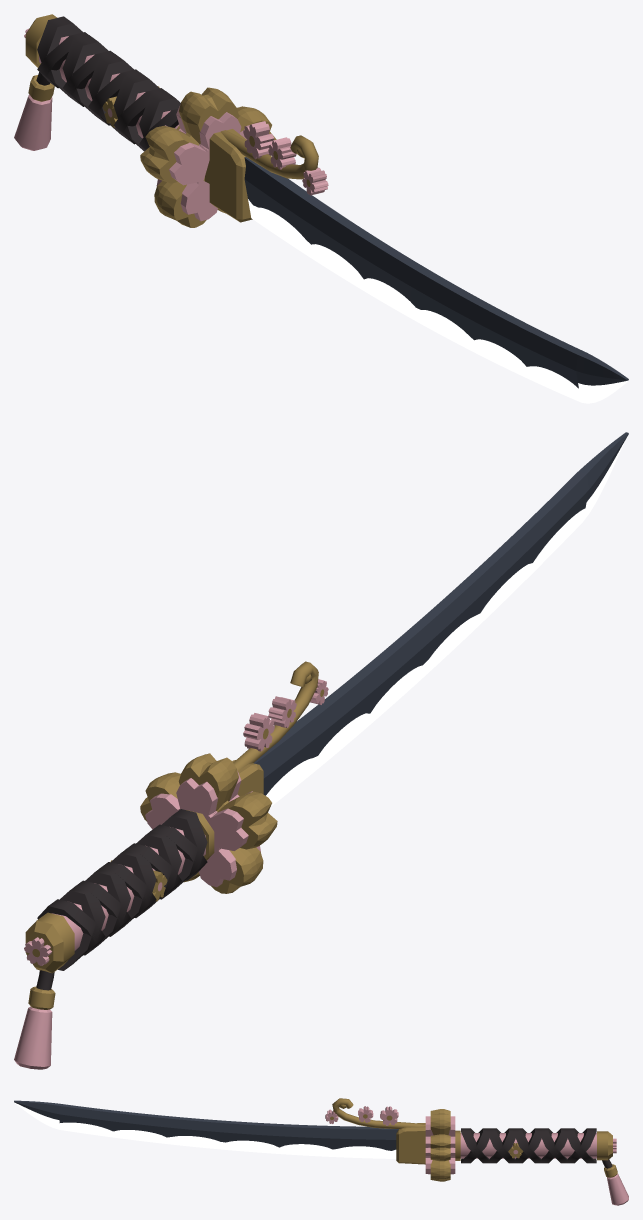
The model's file is w_katana@katana_sakura.glb.
3 views of the same model, one above another, from view 1: azimuth 30°, elevation 25°; view 2: azimuth 150°, elevation 25°; view 3: azimuth 270°, elevation 25° (orthographic). The views are drawn at different scales.
Parts seen in each view (by area): view 1: kat_blade_wzB__steel__p3b4250, kat_tsuka_wzN__black__p2f2a2c, kat_guard_wzN__gold__p9a7f48, kat_blade_wzN__glow__nffc9d8, kat_guard_wzN__pink__pcf9aa5, kat_blade_wzN__pink__pcf9aa5, kat_blade_wzN__gold__p9a7f48, kat_trims_wzN__pink__pcf9aa5, kat_trims_wzN__gold__p9a7f48; view 2: kat_blade_wzB__steel__p3b4250, kat_tsuka_wzN__black__p2f2a2c, kat_guard_wzN__gold__p9a7f48, kat_blade_wzN__glow__nffc9d8, kat_guard_wzN__pink__pcf9aa5, kat_trims_wzN__gold__p9a7f48, kat_trims_wzN__pink__pcf9aa5, kat_blade_wzN__pink__pcf9aa5, kat_blade_wzN__gold__p9a7f48; view 3: kat_blade_wzB__steel__p3b4250, kat_blade_wzN__glow__nffc9d8, kat_tsuka_wzN__black__p2f2a2c, kat_guard_wzN__gold__p9a7f48, kat_tsuka_wzA__pink__pcf9aa5, kat_blade_wzN__gold__p9a7f48, kat_trims_wzN__gold__p9a7f48, kat_guard_wzN__pink__pcf9aa5, kat_blade_wzN__pink__pcf9aa5, kat_trims_wzN__pink__pcf9aa5.
Boxes of the visible parts, <box> form: kat_blade_wzB__steel__p3b4250: <box>244,157,628,388</box>; kat_tsuka_wzN__black__p2f2a2c: <box>37,16,180,151</box>; kat_guard_wzN__gold__p9a7f48: <box>140,87,276,227</box>; kat_blade_wzN__glow__nffc9d8: <box>248,199,627,403</box>; kat_guard_wzN__pink__pcf9aa5: <box>156,105,247,221</box>; kat_blade_wzN__pink__pcf9aa5: <box>243,121,328,195</box>; kat_blade_wzN__gold__p9a7f48: <box>220,130,318,186</box>; kat_trims_wzN__pink__pcf9aa5: <box>14,28,52,150</box>; kat_trims_wzN__gold__p9a7f48: <box>25,14,179,129</box>; kat_blade_wzB__steel__p3b4250: <box>253,432,628,795</box>; kat_tsuka_wzN__black__p2f2a2c: <box>37,809,207,970</box>; kat_guard_wzN__gold__p9a7f48: <box>140,753,277,893</box>; kat_blade_wzN__glow__nffc9d8: <box>266,438,626,806</box>; kat_guard_wzN__pink__pcf9aa5: <box>145,771,260,887</box>; kat_trims_wzN__gold__p9a7f48: <box>25,810,214,1009</box>; kat_trims_wzN__pink__pcf9aa5: <box>14,937,52,1069</box>; kat_blade_wzN__pink__pcf9aa5: <box>243,679,328,751</box>; kat_blade_wzN__gold__p9a7f48: <box>233,661,324,770</box>; kat_blade_wzB__steel__p3b4250: <box>14,1100,398,1150</box>; kat_blade_wzN__glow__nffc9d8: <box>14,1102,396,1158</box>; kat_tsuka_wzN__black__p2f2a2c: <box>461,1128,596,1163</box>; kat_guard_wzN__gold__p9a7f48: <box>396,1109,450,1181</box>; kat_tsuka_wzA__pink__pcf9aa5: <box>460,1133,596,1158</box>; kat_blade_wzN__gold__p9a7f48: <box>330,1098,425,1128</box>; kat_trims_wzN__gold__p9a7f48: <box>455,1130,617,1177</box>; kat_guard_wzN__pink__pcf9aa5: <box>425,1116,455,1174</box>; kat_blade_wzN__pink__pcf9aa5: <box>325,1106,398,1125</box>; kat_trims_wzN__pink__pcf9aa5: <box>607,1138,628,1205</box>.
Size of the model in its own units: 0.1179 by 0.1871 by 0.9935.
